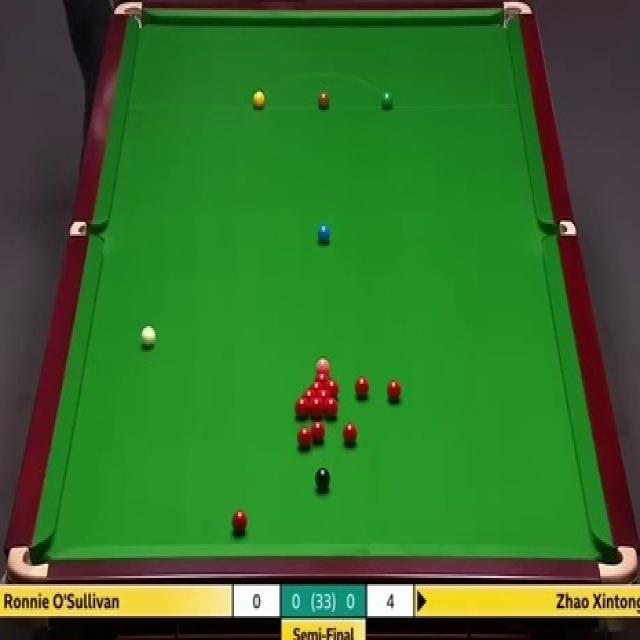black-ball: (315, 465, 331, 494)
blue-ball: (317, 223, 330, 247)
brown-ball: (317, 92, 331, 110)
green-ball: (380, 90, 394, 112)
pink-ball: (316, 356, 330, 372)
red-ball: (231, 508, 248, 536), (386, 378, 403, 404), (354, 375, 370, 400), (342, 423, 358, 446), (297, 426, 312, 450), (323, 397, 339, 419), (311, 421, 325, 443), (294, 398, 308, 420), (310, 397, 323, 417), (326, 379, 339, 398), (307, 380, 326, 390), (314, 372, 332, 382), (317, 388, 333, 398), (302, 389, 317, 398)
white-ball: (139, 323, 156, 353)
yellow-ball: (252, 90, 266, 110)
